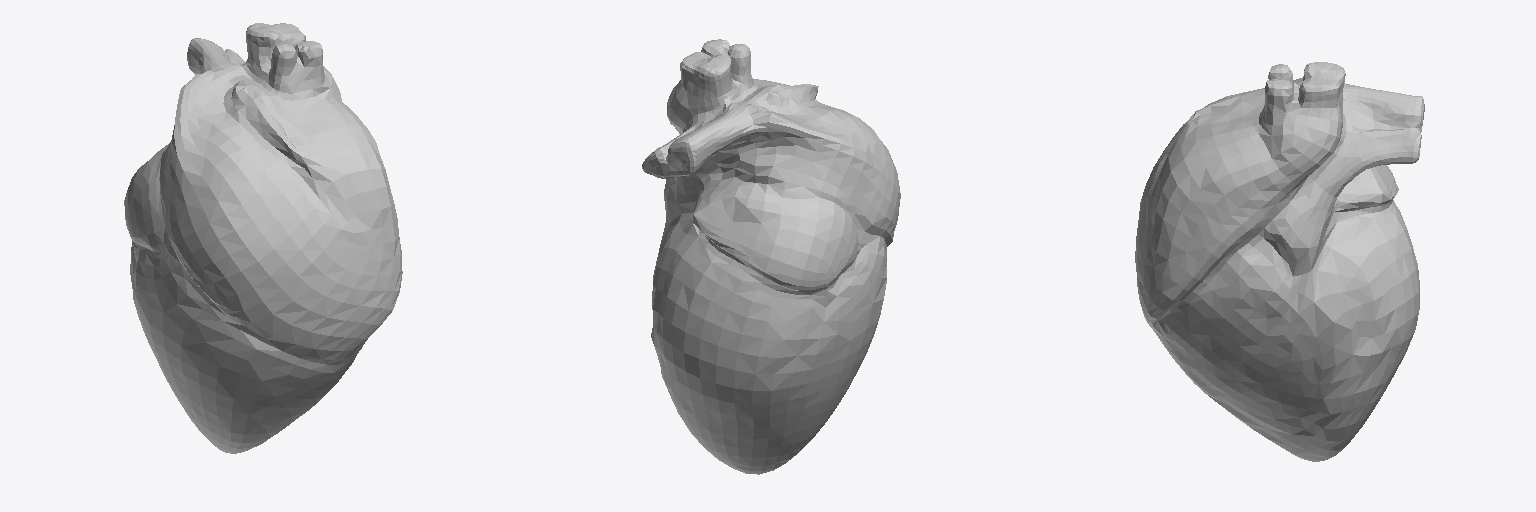
File: heart.obj
The picture shows the model from 3 angles: view 1: azimuth 30°, elevation 25°; view 2: azimuth 150°, elevation 25°; view 3: azimuth 270°, elevation 25°; orthographic projection.
Parts seen in each view (by area): view 1: mesh; view 2: mesh; view 3: mesh.
Boxes of the visible parts, box(x1,y1,x2,y2) form: mesh: box(124, 23, 402, 453); mesh: box(642, 39, 900, 474); mesh: box(1135, 62, 1424, 461).
Size of the model in its own units: 0.5048 by 0.9982 by 0.6369.